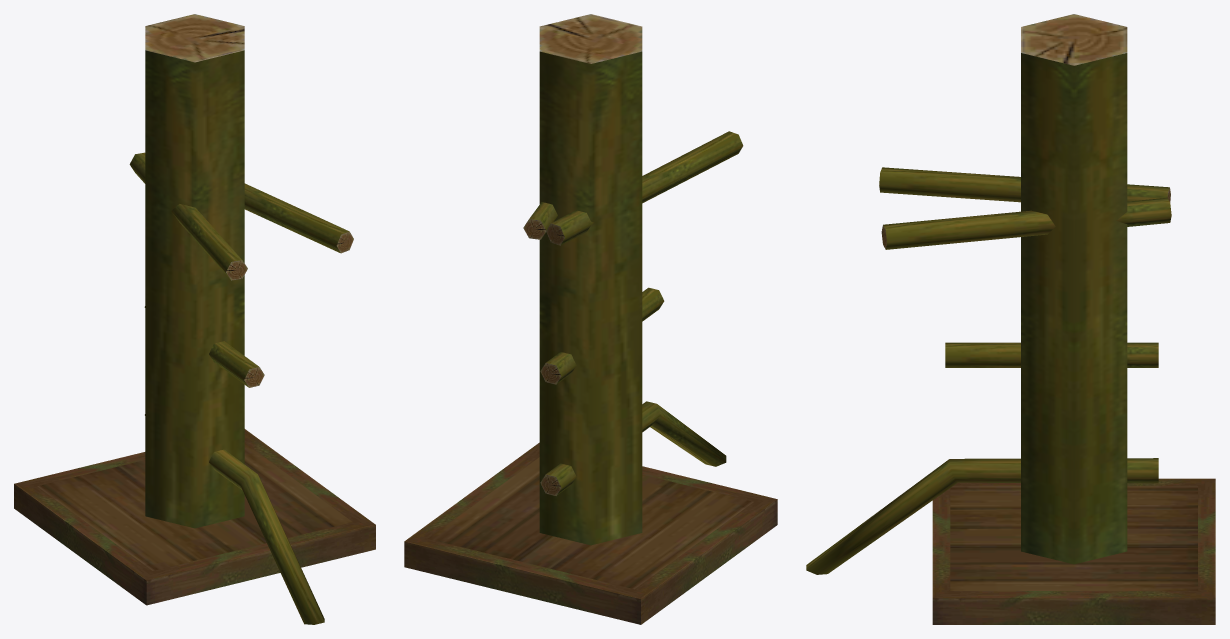
Rendered from Yland3_jz_07 Yland3.FBX.
3 renders of one model, left to right at view 1: azimuth 30°, elevation 25°; view 2: azimuth 150°, elevation 25°; view 3: azimuth 270°, elevation 25°, orthographic. The views are drawn at different scales.
Parts seen in each view (by area): view 1: Yland3_jz_07 Yland3; view 2: Yland3_jz_07 Yland3; view 3: Yland3_jz_07 Yland3.
Boxes of the visible parts, <box> form: Yland3_jz_07 Yland3: <box>14,14,375,624</box>; Yland3_jz_07 Yland3: <box>404,14,777,624</box>; Yland3_jz_07 Yland3: <box>806,14,1215,624</box>.
Bounding box in the file's own units: 2.4 × 4.98 × 3.47.
